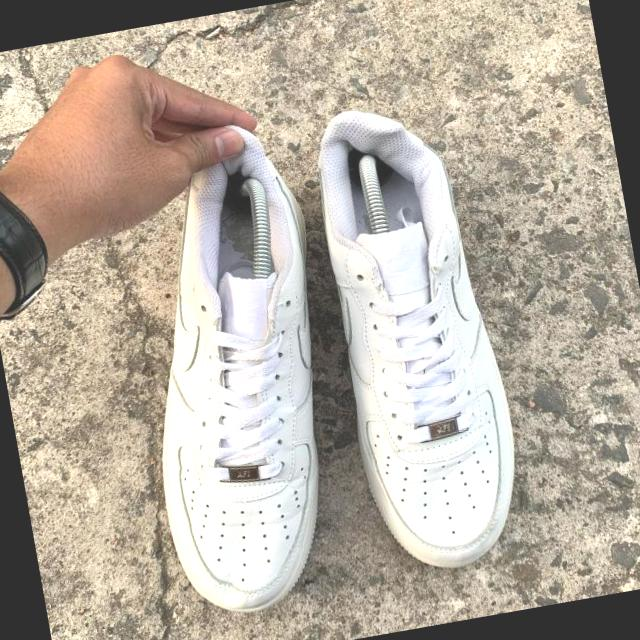nike_fake_airforce: (102, 113, 376, 624), (299, 90, 541, 586)
